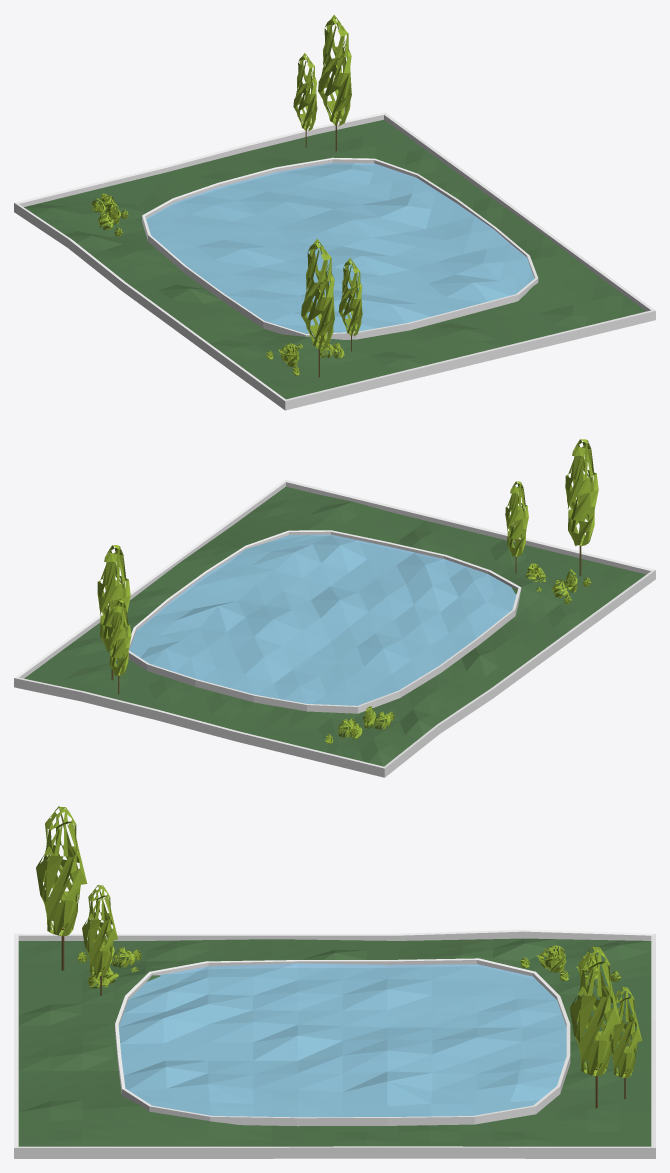
File: Lake.fbx
3 views of the same model, one above another, from view 1: azimuth 30°, elevation 25°; view 2: azimuth 150°, elevation 25°; view 3: azimuth 270°, elevation 25° (orthographic). The views are drawn at different scales.
Visible parts, largest first — view 1: Grass, Water, Leaves, Leaves_2, Leaves_3, Leaves_4; view 2: Grass, Water, Leaves_2, Leaves, Leaves_4, Leaves_3; view 3: Grass, Water, Leaves, Leaves_2, Leaves_3, Leaves_4.
Part boxes in pixels (left/top/right/bottom): Grass: left=14, top=112, right=655, bottom=410; Water: left=142, top=157, right=538, bottom=339; Leaves: left=318, top=14, right=351, bottom=125; Leaves_2: left=301, top=239, right=334, bottom=350; Leaves_3: left=338, top=258, right=362, bottom=335; Leaves_4: left=293, top=53, right=317, bottom=131; Grass: left=14, top=479, right=655, bottom=777; Water: left=128, top=530, right=521, bottom=713; Leaves_2: left=565, top=439, right=598, bottom=545; Leaves: left=97, top=545, right=130, bottom=651; Leaves_4: left=108, top=600, right=131, bottom=675; Leaves_3: left=505, top=481, right=528, bottom=556; Grass: left=14, top=929, right=655, bottom=1158; Water: left=115, top=958, right=570, bottom=1126; Leaves: left=569, top=946, right=620, bottom=1076; Leaves_2: left=36, top=806, right=87, bottom=936; Leaves_3: left=82, top=885, right=117, bottom=976; Leaves_4: left=611, top=986, right=641, bottom=1077.
Bounding box in the file's own units: 594 × 228 × 753.
